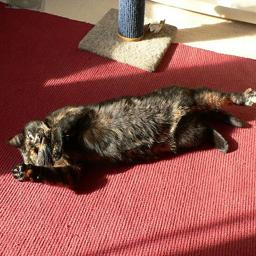cat: (128, 123, 256, 256)
